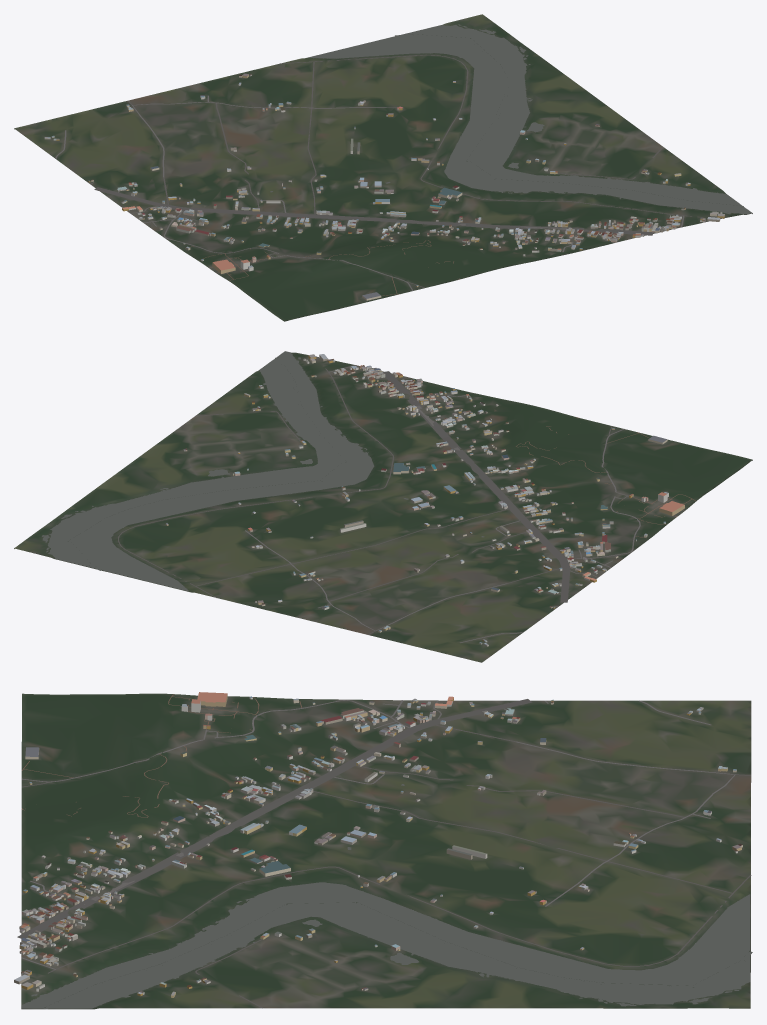
3 views of the same model, one above another, from view 1: azimuth 30°, elevation 25°; view 2: azimuth 150°, elevation 25°; view 3: azimuth 270°, elevation 25° (orthographic). The views are drawn at different scales.
Visible parts, largest first — view 1: ground, water, buildings, roads; view 2: ground, water, buildings, roads; view 3: ground, water, buildings, roads.
Boxes of the visible parts, bbox=[...] form: ground: bbox=[14, 14, 752, 321]; water: bbox=[270, 24, 751, 214]; buildings: bbox=[44, 73, 724, 300]; roads: bbox=[55, 54, 721, 295]; ground: bbox=[14, 352, 752, 662]; water: bbox=[42, 351, 484, 591]; buildings: bbox=[165, 354, 684, 646]; roads: bbox=[118, 356, 695, 642]; ground: bbox=[21, 693, 751, 1009]; water: bbox=[22, 784, 752, 1009]; buildings: bbox=[14, 692, 742, 997]; roads: bbox=[17, 694, 751, 1008].
Bounding box in the file's own units: 1407 × 38.86 × 1419.
